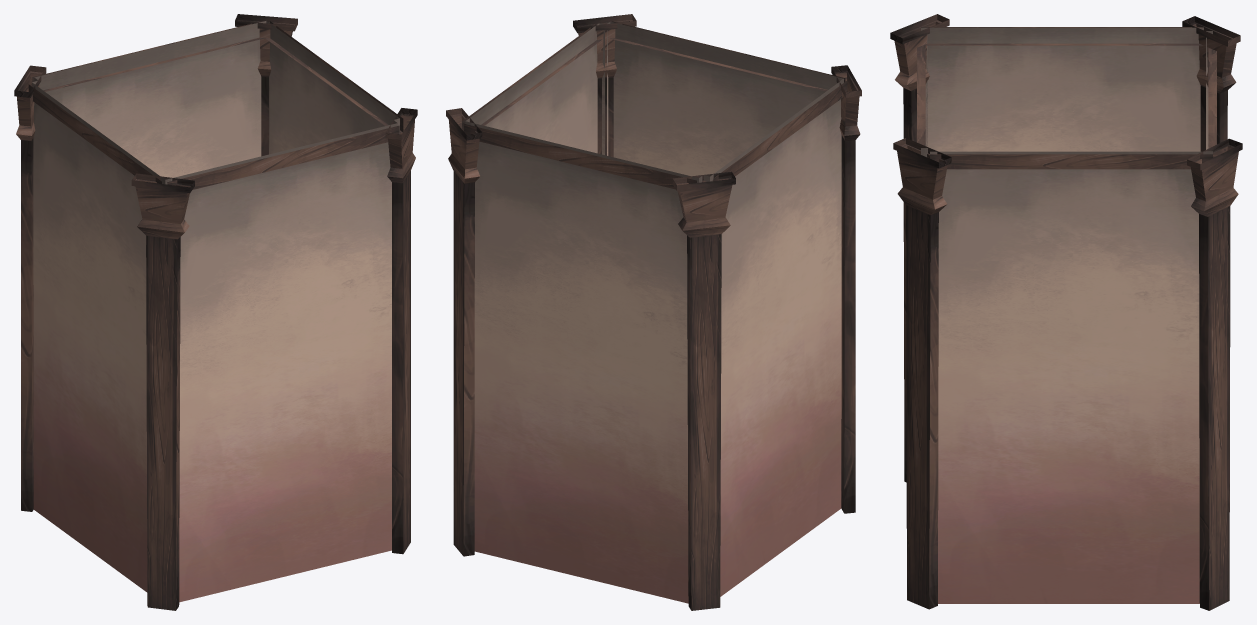
File: Wall_Top_Pillar_LOD1.fbx
3 renders of one model, left to right at view 1: azimuth 30°, elevation 25°; view 2: azimuth 150°, elevation 25°; view 3: azimuth 270°, elevation 25°, orthographic. The views are drawn at different scales.
Visible parts, largest first — view 1: Pillar_Top_LOD1; view 2: Pillar_Top_LOD1; view 3: Pillar_Top_LOD1.
Part boxes in pixels (left/top/right/bottom): Pillar_Top_LOD1: left=14, top=14, right=417, bottom=610; Pillar_Top_LOD1: left=446, top=14, right=861, bottom=610; Pillar_Top_LOD1: left=890, top=14, right=1242, bottom=610.
Bounding box in the file's own units: 0.0299 × 0.042 × 0.0296.
